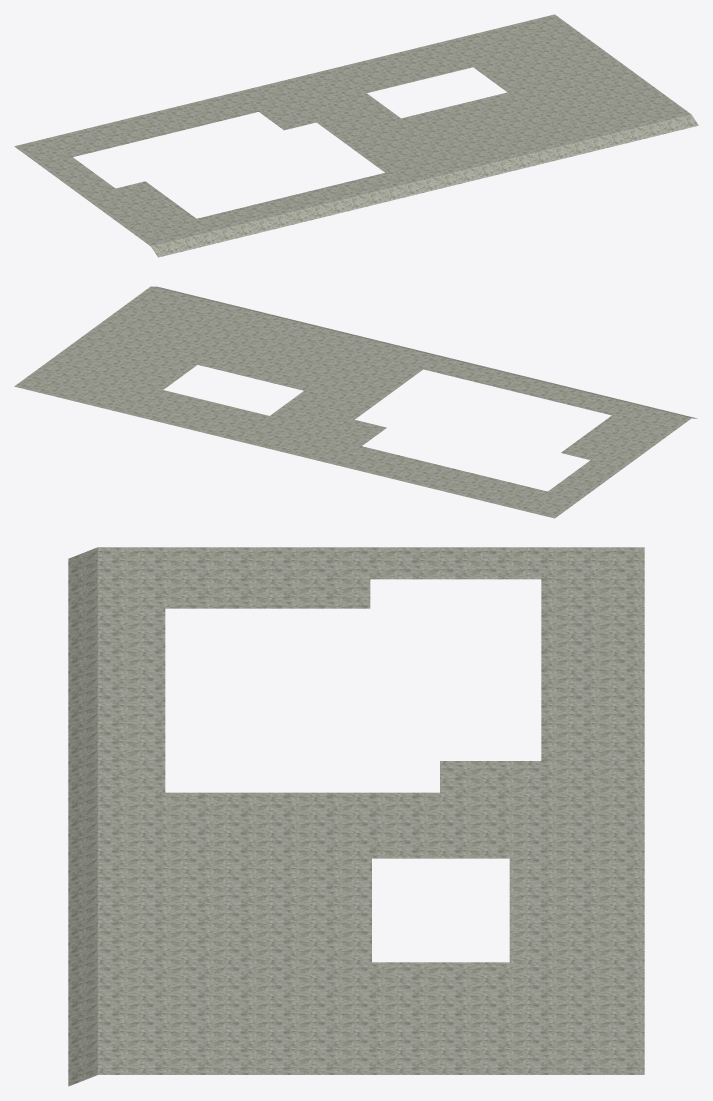
The model's file is Floor_01.fbx.
3 views of the same model, one above another, from view 1: azimuth 30°, elevation 25°; view 2: azimuth 150°, elevation 25°; view 3: azimuth 270°, elevation 25° (orthographic). The views are drawn at different scales.
Visible parts, largest first — view 1: Floor_01; view 2: Floor_01; view 3: Floor_01.
Boxes of the visible parts, x1,y1,x2,y2 form: Floor_01: [14, 14, 698, 257]; Floor_01: [14, 286, 697, 518]; Floor_01: [68, 547, 644, 1086].
Bounding box in the file's own units: 19596 × 9046 × 200.
